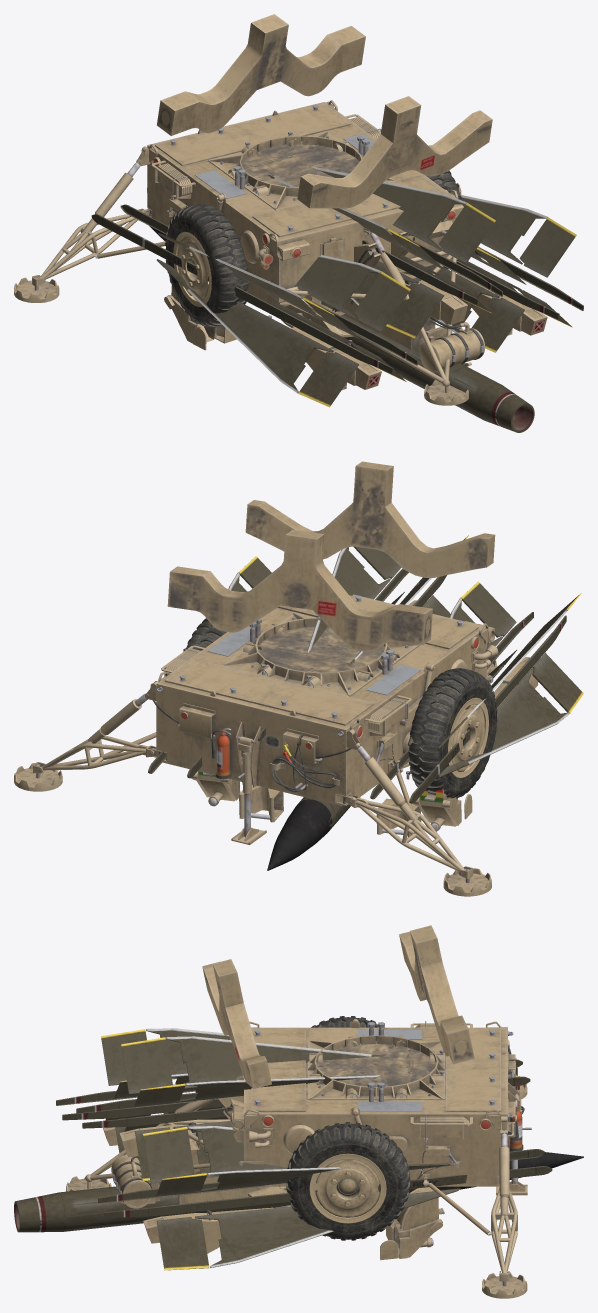
The model's file is hawk.glb.
The picture shows the model from 3 angles, top to bottom: view 1: azimuth 30°, elevation 25°; view 2: azimuth 150°, elevation 25°; view 3: azimuth 270°, elevation 25°; orthographic projection. The views are drawn at different scales.
Parts seen in each view (by area): view 1: cradle|Mim23_Rocket_Mat, body|Mim23_Hull_Mat, body|Mim23_Tower_Mat, cradle|Mim23_Tower_Mat, body|Mim23_Tire_Mat, missile|Mim23_Rocket_Mat, turret|Mim23_Tower_Mat; view 2: body|Mim23_Hull_Mat, body|Mim23_Tower_Mat, cradle|Mim23_Rocket_Mat, body|Mim23_Tire_Mat, cradle|Mim23_Tower_Mat, missile|Mim23_Rocket_Mat; view 3: body|Mim23_Hull_Mat, cradle|Mim23_Rocket_Mat, body|Mim23_Tire_Mat, body|Mim23_Tower_Mat, cradle|Mim23_Tower_Mat, missile|Mim23_Rocket_Mat.
Part boxes in pixels (<box>): cradle|Mim23_Rocket_Mat: <box>91,165,583,407</box>; body|Mim23_Hull_Mat: <box>14,100,468,405</box>; body|Mim23_Tower_Mat: <box>157,14,492,208</box>; cradle|Mim23_Tower_Mat: <box>164,273,547,389</box>; body|Mim23_Tire_Mat: <box>165,170,463,327</box>; missile|Mim23_Rocket_Mat: <box>149,226,534,432</box>; turret|Mim23_Tower_Mat: <box>305,231,414,315</box>; body|Mim23_Hull_Mat: <box>14,594,498,896</box>; body|Mim23_Tower_Mat: <box>167,461,495,651</box>; cradle|Mim23_Rocket_Mat: <box>148,535,583,803</box>; body|Mim23_Tire_Mat: <box>184,618,497,798</box>; cradle|Mim23_Tower_Mat: <box>191,600,539,836</box>; missile|Mim23_Rocket_Mat: <box>267,797,350,870</box>; body|Mim23_Hull_Mat: <box>66,1019,531,1298</box>; cradle|Mim23_Rocket_Mat: <box>56,1028,552,1270</box>; body|Mim23_Tire_Mat: <box>286,1016,410,1240</box>; body|Mim23_Tower_Mat: <box>202,925,474,1088</box>; cradle|Mim23_Tower_Mat: <box>103,1113,444,1260</box>; missile|Mim23_Rocket_Mat: <box>14,1150,583,1232</box>.
Bounding box in the file's own units: 4.39 × 2.71 × 4.91.
Materials: 8 (8 with a texture image).
